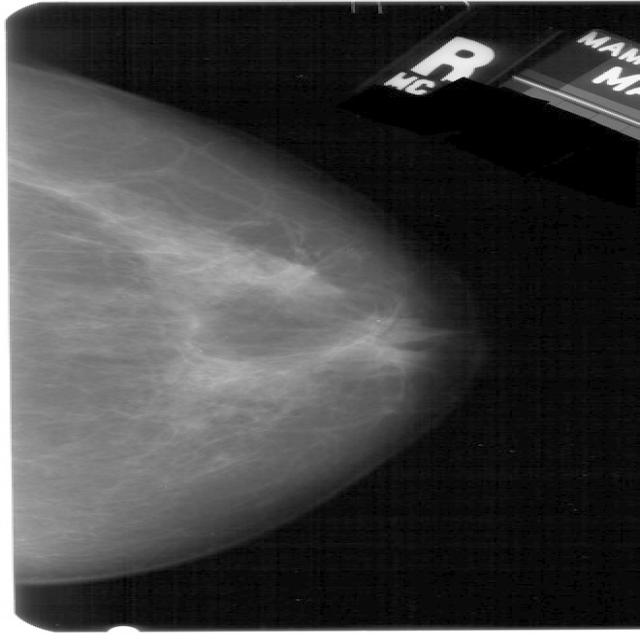tumour: (260, 255, 314, 293)
